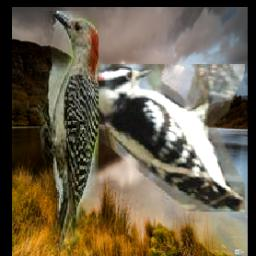Woodpecker: (81, 64, 245, 212), (27, 11, 99, 256)
